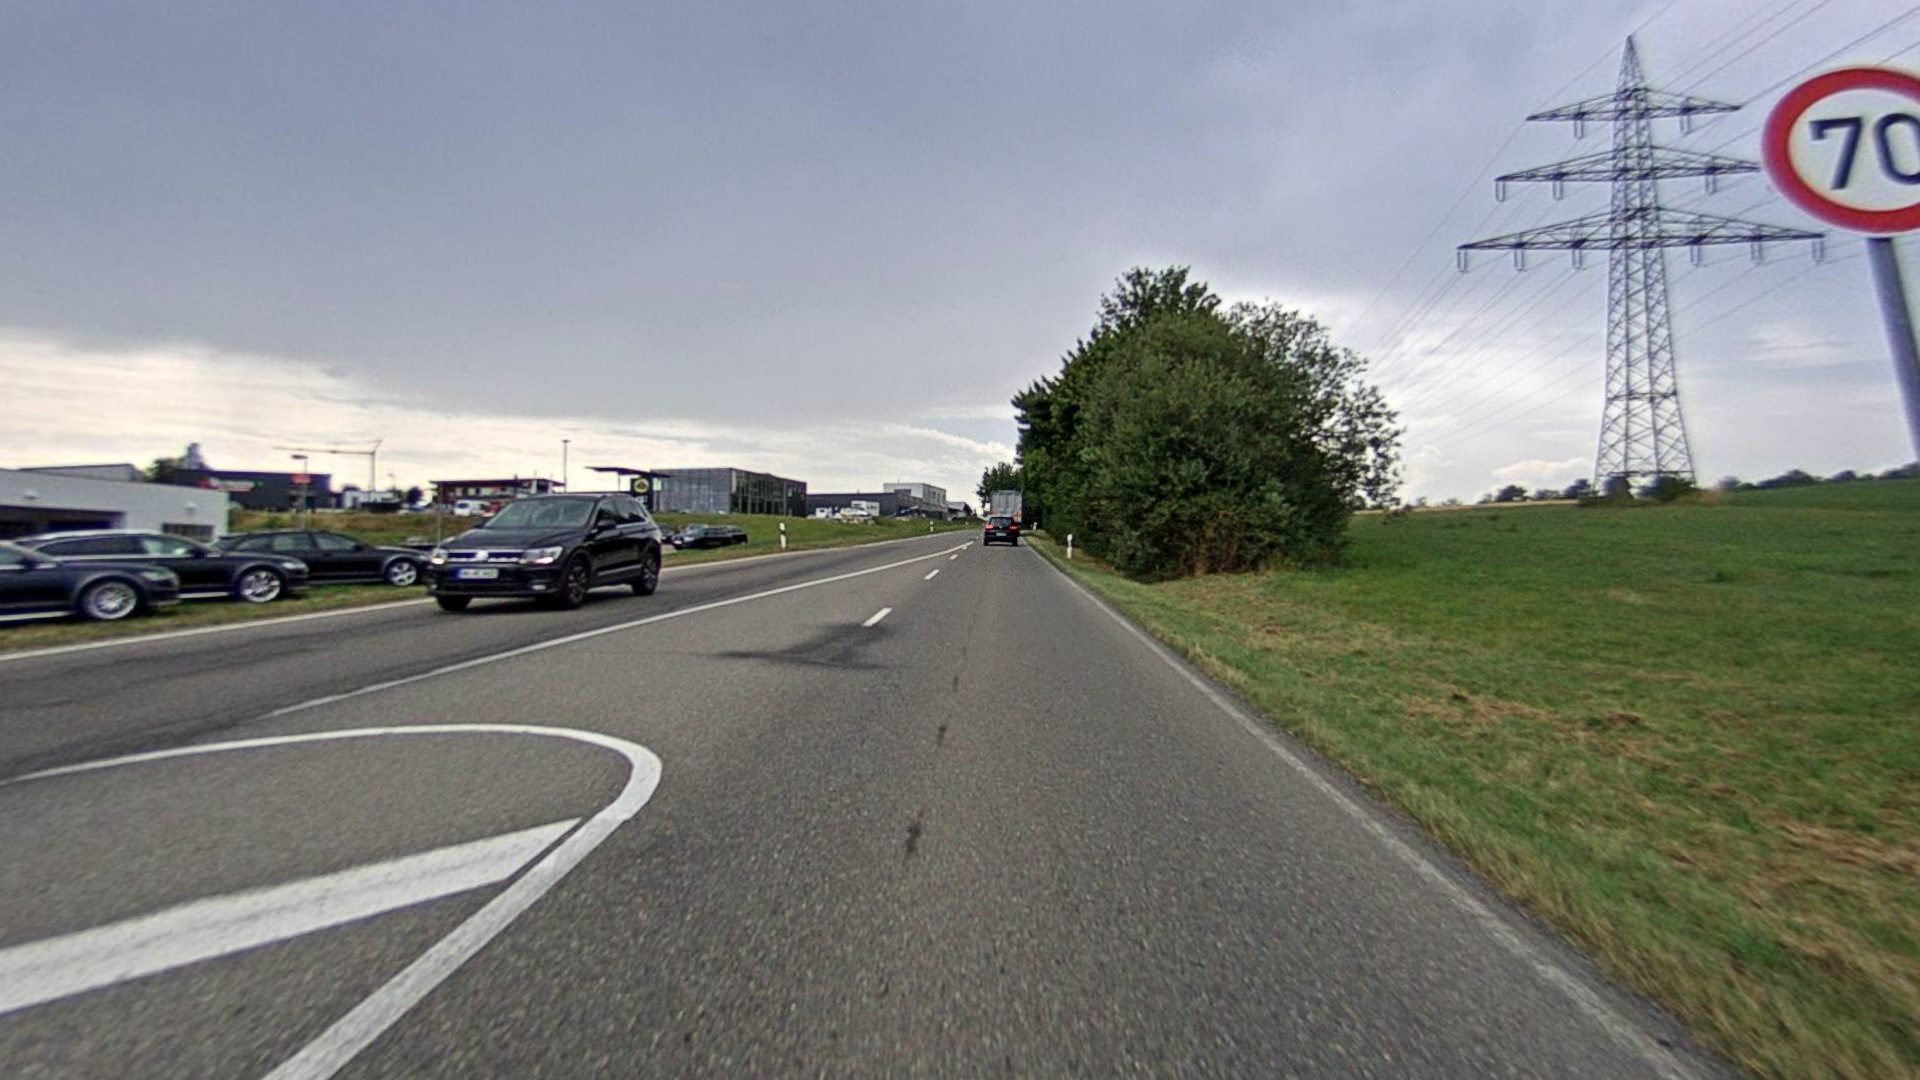car: (425, 485, 666, 611)
